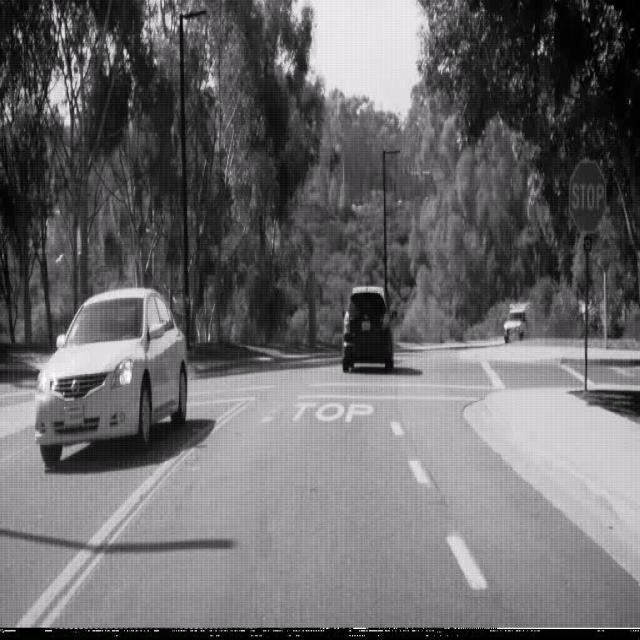stop: (568, 158, 607, 234)
